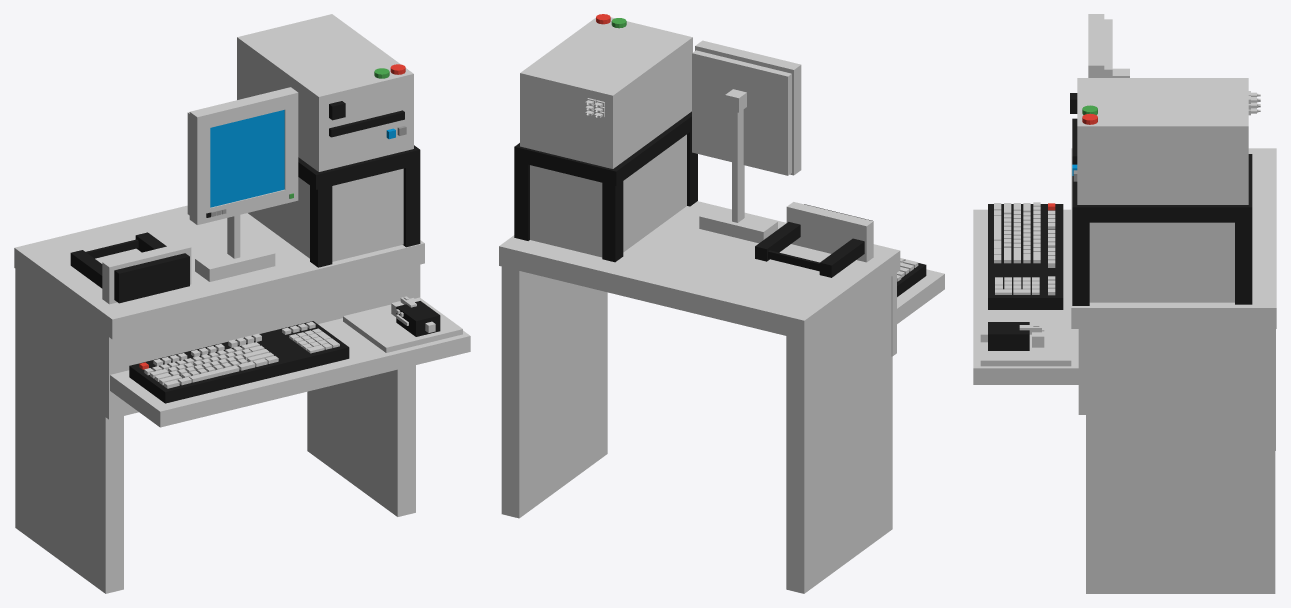
File: Low Poly Computer.glb
The picture shows the model from 3 angles, left to right: view 1: azimuth 30°, elevation 25°; view 2: azimuth 150°, elevation 25°; view 3: azimuth 270°, elevation 25°; orthographic projection. The views are drawn at different scales.
Parts seen in each view (by area): view 1: group2095120019, group565263770, group819484027, group1047091940, group1444110272, group2066294598, group1201542168, group264859573, group1044252597, group292483972, group1587732860, group1312089466 (+11 smaller); view 2: group565263770, group2095120019, group819484027, group1047091940, group590708142, group59310313, group997664436, group1201850618, group1169936522, group1883276267, group1507911008, group2066294598 (+6 smaller); view 3: group1047091940, group565263770, group819484027, group2066294598, group264859573, group301525932, group1044252597, group1548133309, group1106800675, group178628816, group1587732860, group1444110272 (+2 smaller).
Boxes of the visible parts, bbox=[...] form: group2095120019: bbox=[15, 269, 123, 593]; group565263770: bbox=[237, 14, 413, 261]; group819484027: bbox=[14, 205, 424, 339]; group1047091940: bbox=[307, 365, 415, 516]; group1444110272: bbox=[104, 264, 420, 419]; group2066294598: bbox=[110, 318, 470, 427]; group1201542168: bbox=[210, 110, 284, 207]; group264859573: bbox=[129, 321, 349, 403]; group1044252597: bbox=[343, 297, 462, 352]; group292483972: bbox=[114, 253, 189, 303]; group1587732860: bbox=[189, 87, 298, 130]; group1312089466: bbox=[189, 108, 210, 224]; group565263770: bbox=[520, 17, 692, 257]; group2095120019: bbox=[786, 277, 892, 593]; group819484027: bbox=[499, 201, 900, 340]; group1047091940: bbox=[501, 266, 607, 518]; group590708142: bbox=[692, 50, 791, 175]; group59310313: bbox=[786, 202, 873, 262]; group997664436: bbox=[599, 111, 691, 185]; group1201850618: bbox=[602, 165, 623, 262]; group1169936522: bbox=[699, 206, 777, 243]; group1883276267: bbox=[516, 145, 612, 184]; group1507911008: bbox=[732, 109, 744, 222]; group2066294598: bbox=[897, 269, 944, 323]; group1047091940: bbox=[1086, 329, 1275, 593]; group565263770: bbox=[1077, 78, 1248, 302]; group819484027: bbox=[1071, 148, 1276, 328]; group2066294598: bbox=[973, 209, 1085, 384]; group264859573: bbox=[988, 204, 1063, 309]; group301525932: bbox=[1072, 200, 1252, 222]; group1044252597: bbox=[980, 321, 1071, 366]; group1548133309: bbox=[1072, 200, 1089, 305]; group1106800675: bbox=[1235, 204, 1252, 304]; group178628816: bbox=[988, 322, 1029, 350]; group1587732860: bbox=[1088, 14, 1104, 77]; group1444110272: bbox=[1078, 329, 1088, 414].
Bounding box in the file's own units: 3.09 × 4.29 × 2.48.
